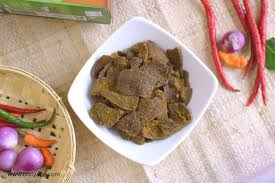rendang: (83, 33, 212, 156)
